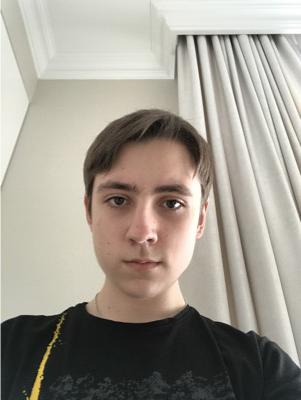without_mask: (92, 174, 200, 299)
